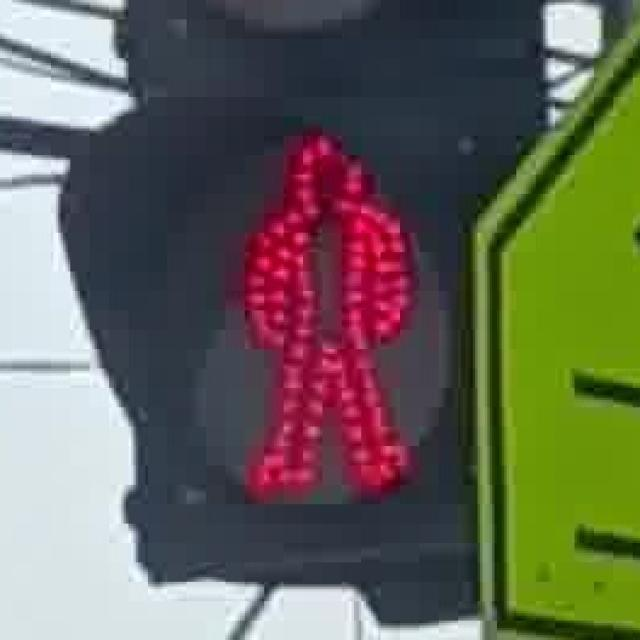red_light: (213, 111, 427, 512)
